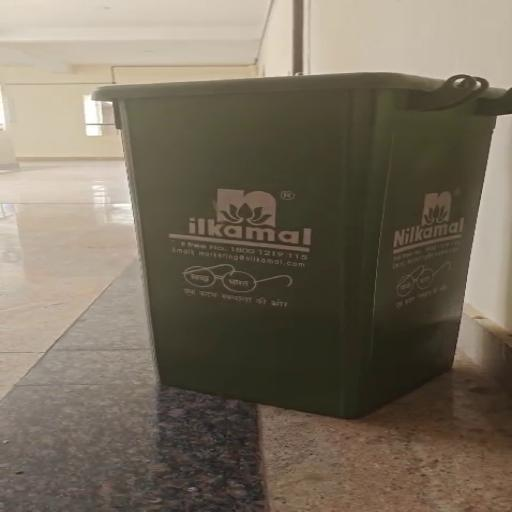Nilkamal-dustbin-detection: (95, 73, 511, 416)
